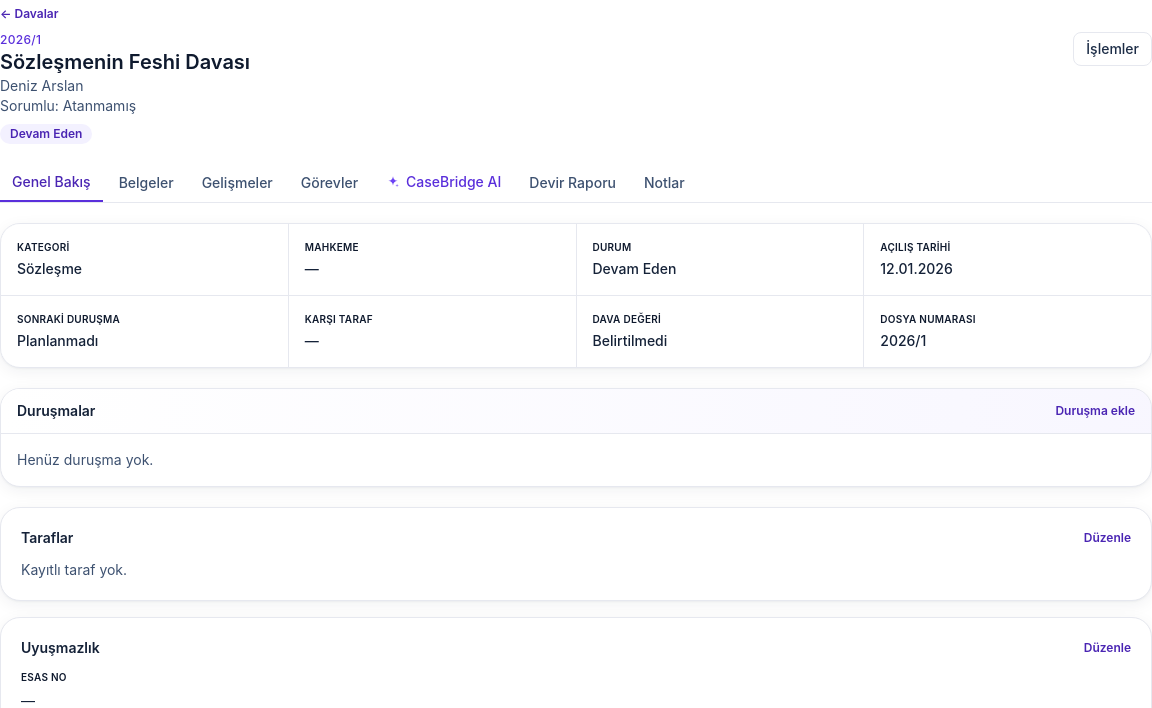
Test: Davayı kapat › still shows the closed case when the reload after closing fails
This screenshot has width=1152, height=708.
Expected: the heading "Sözleşmenin Feshi Davası" is shown, [0, 48, 250, 76]
Click the button "İşlemler".
click(1113, 49)  # box [1073, 32, 1151, 66]
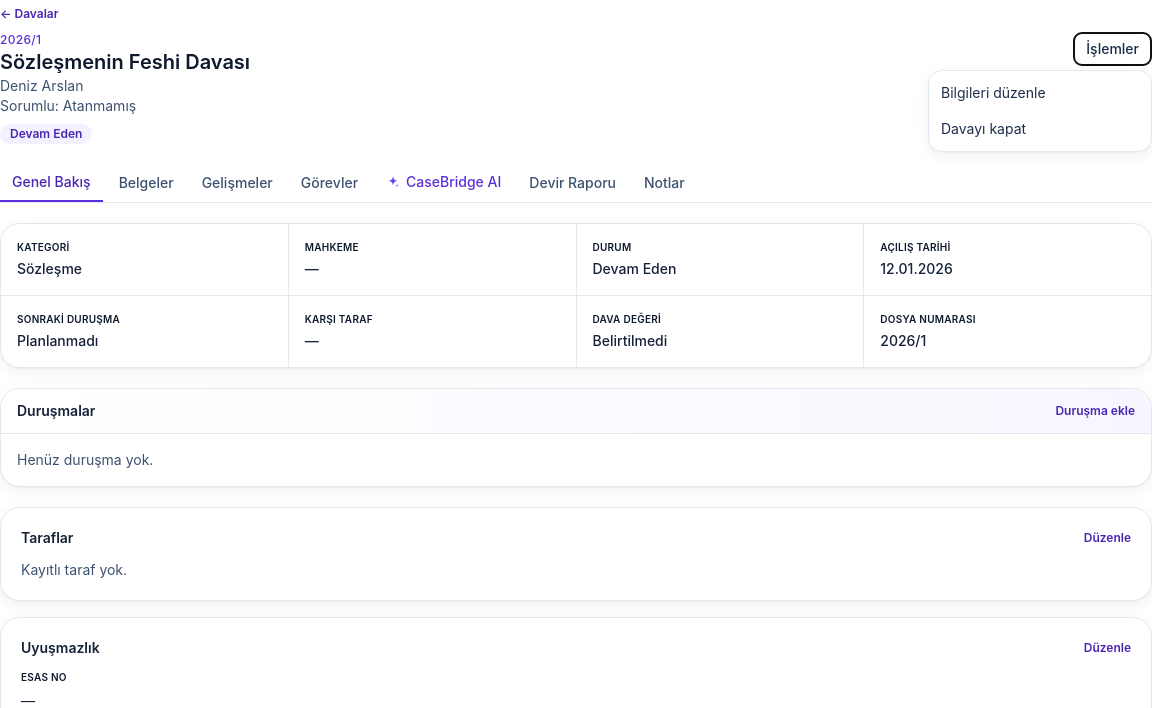
Click the menu item "Davayı kapat".
click(1040, 129)  # box [929, 111, 1151, 147]
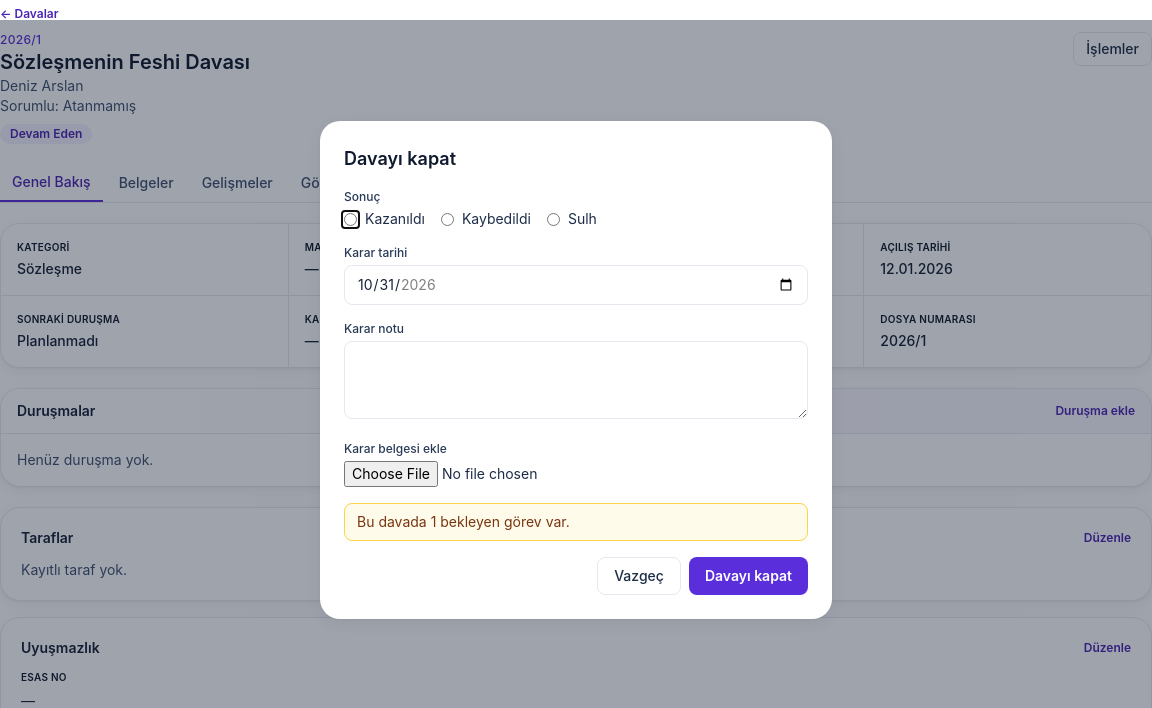
Click the radio button labelled "Sulh".
click(554, 219)  # box [547, 212, 560, 226]
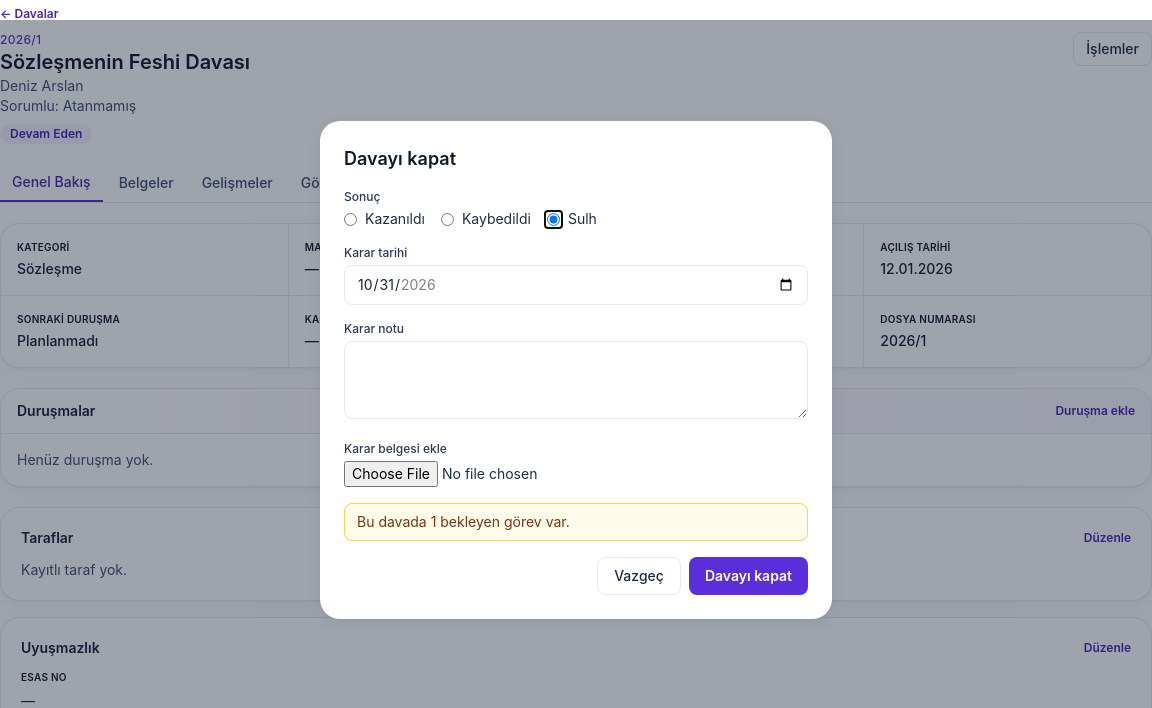
Click the button "Davayı kapat".
click(748, 576)  # box [689, 557, 808, 595]
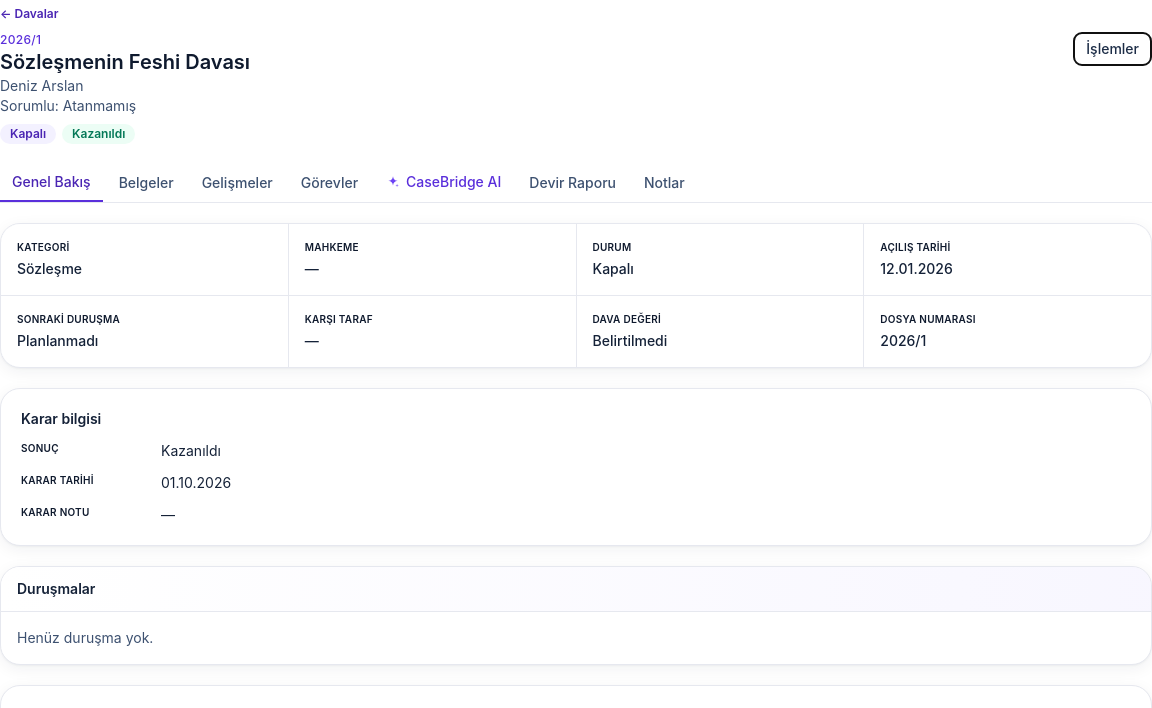
Expected: the heading "Sözleşmenin Feshi Davası" is shown, [0, 48, 250, 76]
Expected: the dialog is gone
Expected: the text "Kapalı" below "Sorumlu: Atanmamış" is shown, [10, 126, 46, 141]
